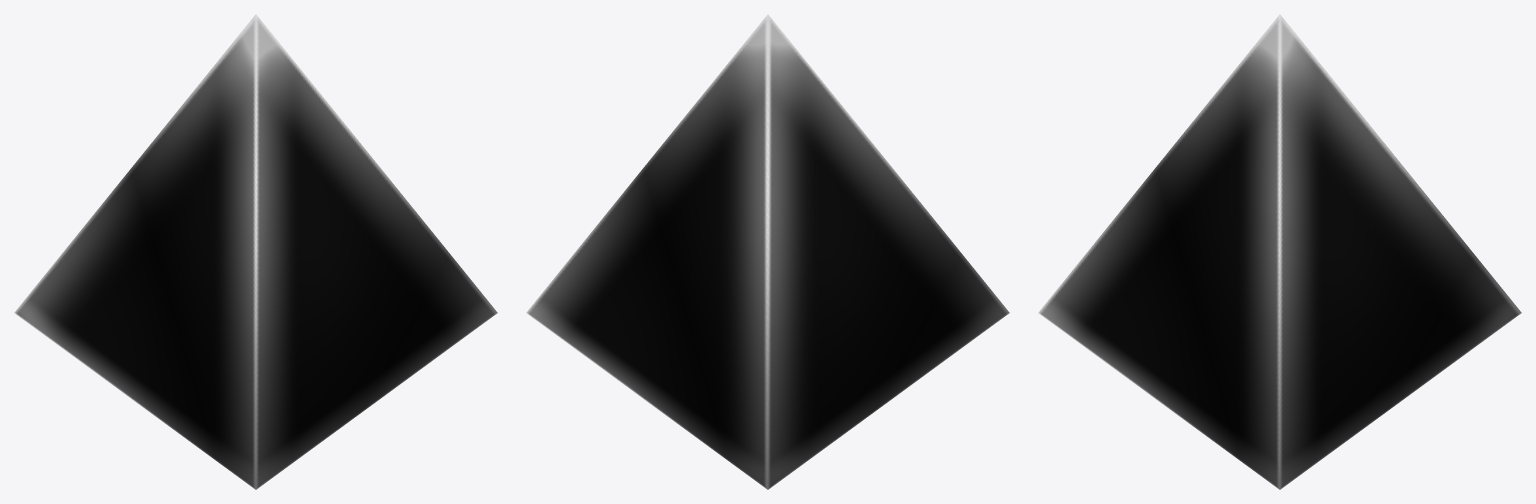
File: sanjiao_mox.FBX
3 renders of one model, left to right at view 1: azimuth 30°, elevation 25°; view 2: azimuth 150°, elevation 25°; view 3: azimuth 270°, elevation 25°, orthographic.
Parts seen in each view (by area): view 1: GeoSphere001; view 2: GeoSphere001; view 3: GeoSphere001.
Part boxes in pixels (bbox=[...]): GeoSphere001: bbox=[14, 14, 497, 489]; GeoSphere001: bbox=[526, 14, 1009, 489]; GeoSphere001: bbox=[1038, 14, 1521, 489].
Bounding box in the file's own units: 42.43 × 40 × 48.99.
